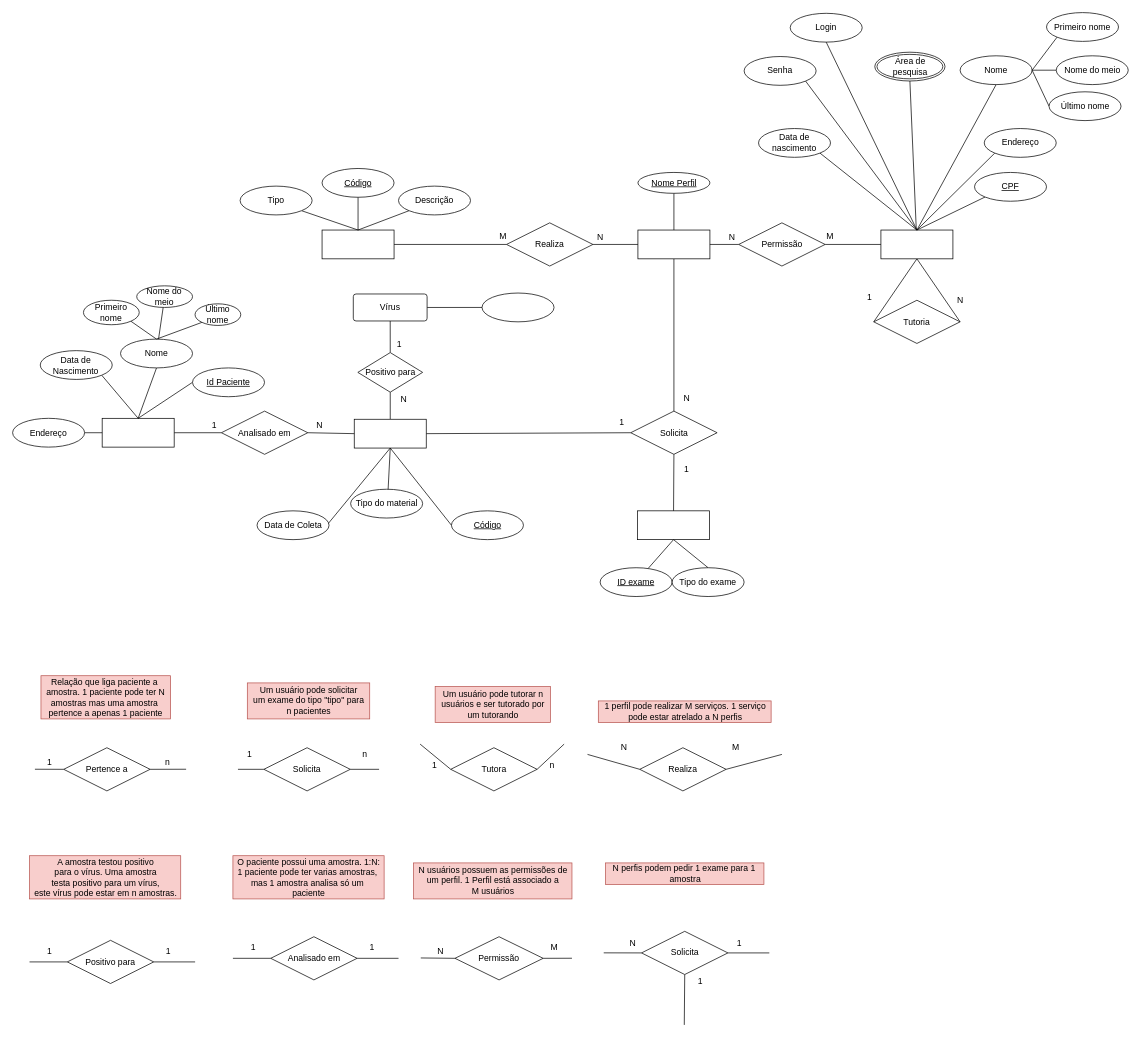
The diagram is 1141 pixels wide and 1038 high, and some of its shapes have lost their labels. The shapes that lost their labels are listed below. From the top down, each one's centre as x and y in pixels, then its label:
the point at 357,244: Serviço
the point at 673,244: Perfil
the point at 916,244: Usuário
the point at 517,307: Nome científico
the point at 137,432: Paciente
the point at 390,433: Amostra
the point at 673,525: Exame
